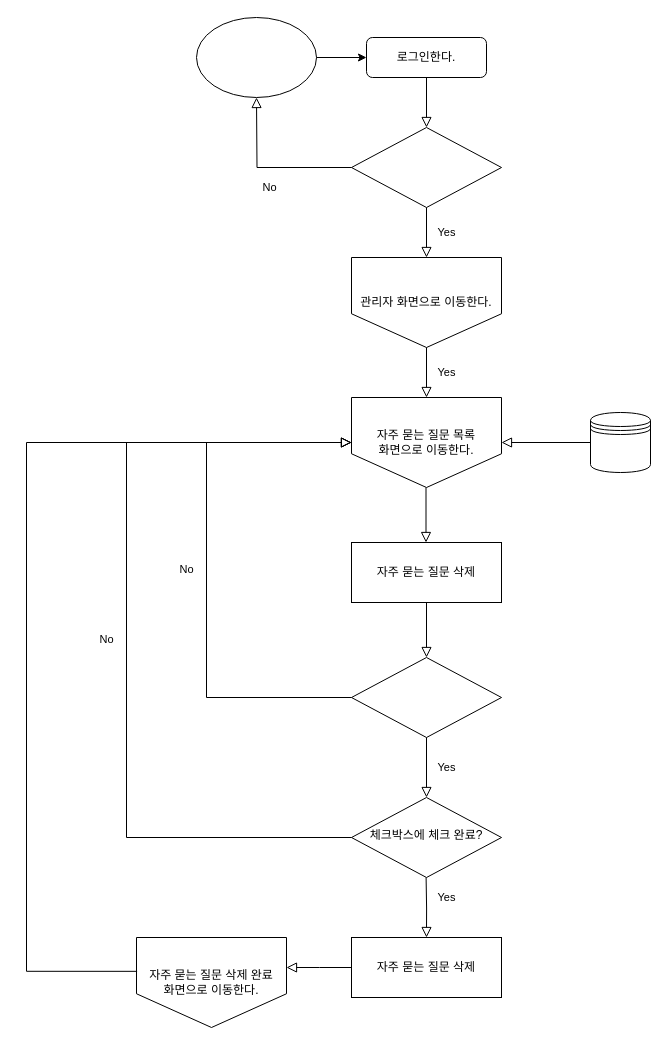
Some shapes in this 668 by 1045 pixel diagram are drawn without their labels. The shapes that lost their labels are listed below. From the top down, each one's centre as x and y in pixels, then its label:
At point (256, 57): "로그인 화면".
At point (426, 167): "가입한 회원?".
At point (620, 442): "DB 연동".
At point (426, 697): "관리자 비밀 번호 일치?".
